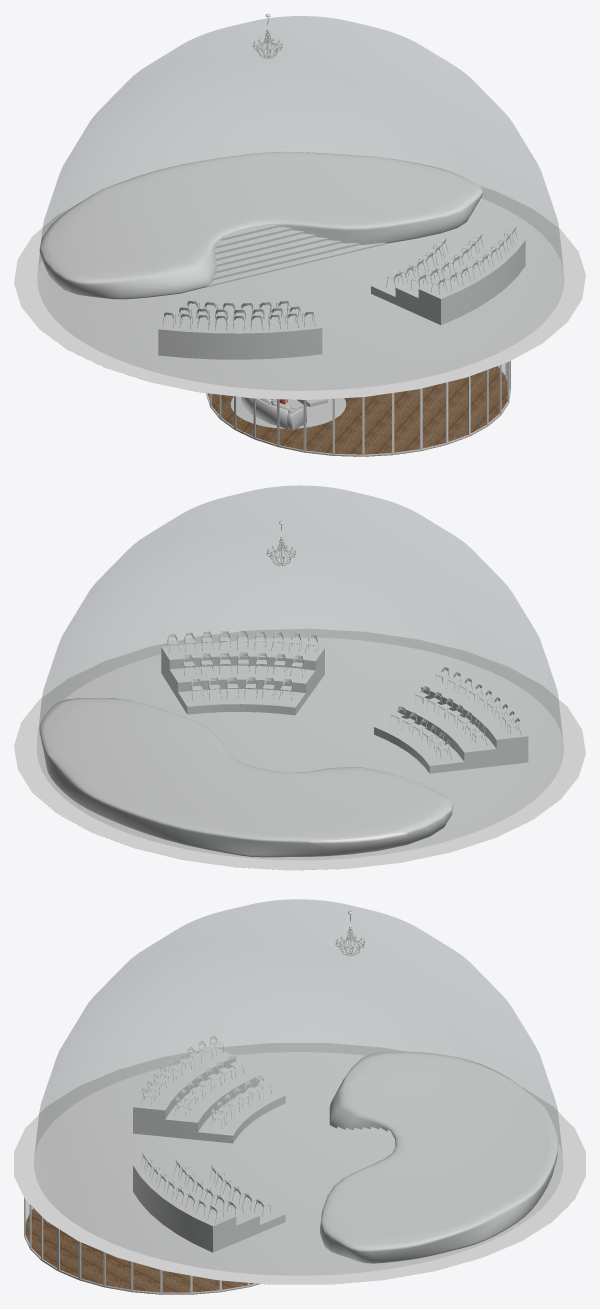
The model's file is Lauren.fbx.
The picture shows the model from 3 angles, top to bottom: view 1: azimuth 30°, elevation 25°; view 2: azimuth 150°, elevation 25°; view 3: azimuth 270°, elevation 25°; orthographic projection.
Parts seen in each view (by area): view 1: Sphere, Cylinder, Cube, Cube.004, Cylinder.007, Cylinder.003, Cube.001, Cylinder.001, Cylinder.002, Circle.001, living room fan.001, Cylinder.004 (+3 smaller); view 2: Sphere, Cylinder, Cube, Cube.004, Cube.001, Chair.007, Chair.006, Chair.004, Chair.005, Chair.003, Chair.002; view 3: Sphere, Cylinder, Cube, Cube.004, Cylinder.007, Cylinder.001, Cube.001, Cylinder.003, Chair.004, Cylinder.004, Chair.003, Cylinder.002 (+4 smaller).
Boxes of the visible parts, x1,y1,x2,y2 form: Sphere: [38, 16, 563, 390]; Cylinder: [14, 185, 585, 399]; Cube: [39, 151, 482, 299]; Cube.004: [158, 236, 525, 359]; Cylinder.007: [207, 366, 509, 456]; Cylinder.003: [306, 363, 507, 454]; Cube.001: [206, 225, 385, 287]; Cylinder.001: [207, 361, 510, 449]; Cylinder.002: [305, 362, 508, 456]; Circle.001: [231, 396, 346, 428]; living room fan.001: [239, 397, 306, 430]; Cylinder.004: [206, 361, 510, 452]; Sphere: [37, 485, 563, 859]; Cylinder: [14, 628, 585, 870]; Cube: [39, 698, 453, 857]; Cube.004: [161, 642, 528, 773]; Cube.001: [221, 742, 326, 772]; Chair.007: [166, 631, 318, 654]; Chair.006: [181, 652, 305, 676]; Chair.004: [435, 666, 521, 736]; Chair.005: [189, 677, 294, 700]; Chair.003: [414, 686, 487, 746]; Chair.002: [390, 706, 451, 761]; Sphere: [34, 899, 562, 1274]; Cylinder: [14, 1043, 585, 1284]; Cube: [320, 1051, 558, 1263]; Cube.004: [133, 1046, 285, 1252]; Cylinder.007: [24, 1209, 259, 1294]; Cylinder.001: [81, 1243, 251, 1292]; Cube.001: [328, 1123, 395, 1194]; Cylinder.003: [25, 1200, 77, 1277]; Chair.004: [140, 1035, 223, 1106]; Cylinder.004: [79, 1242, 259, 1294]; Chair.003: [174, 1055, 243, 1117]; Cylinder.002: [24, 1197, 79, 1279].
Size of the model in its own units: 3459 by 2108 by 3459.
